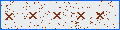x: (76, 11, 86, 21), (4, 12, 14, 21), (52, 11, 61, 21), (96, 11, 105, 21), (28, 11, 37, 20)
